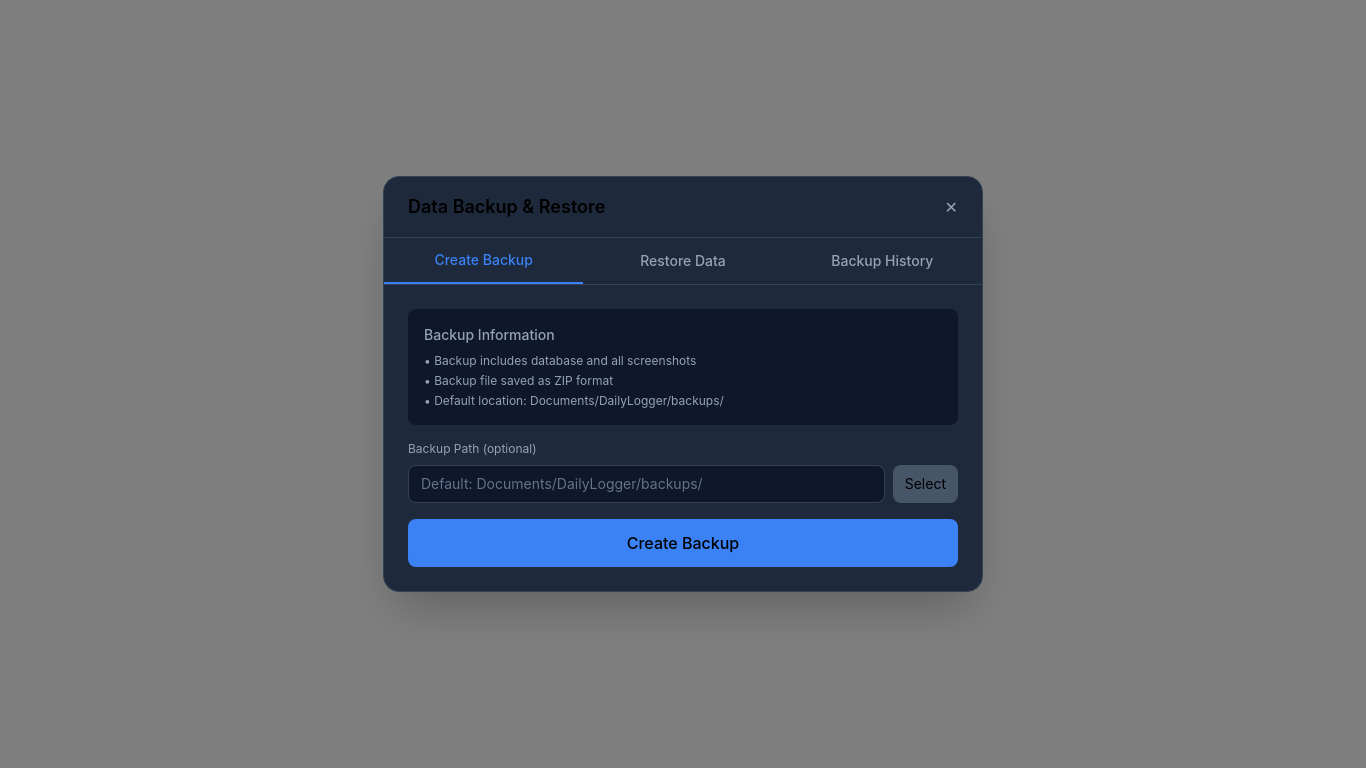
it: BackupModal › History Tab › displays backup list
Click the button "Backup History": (882, 261) [783, 238, 982, 284]
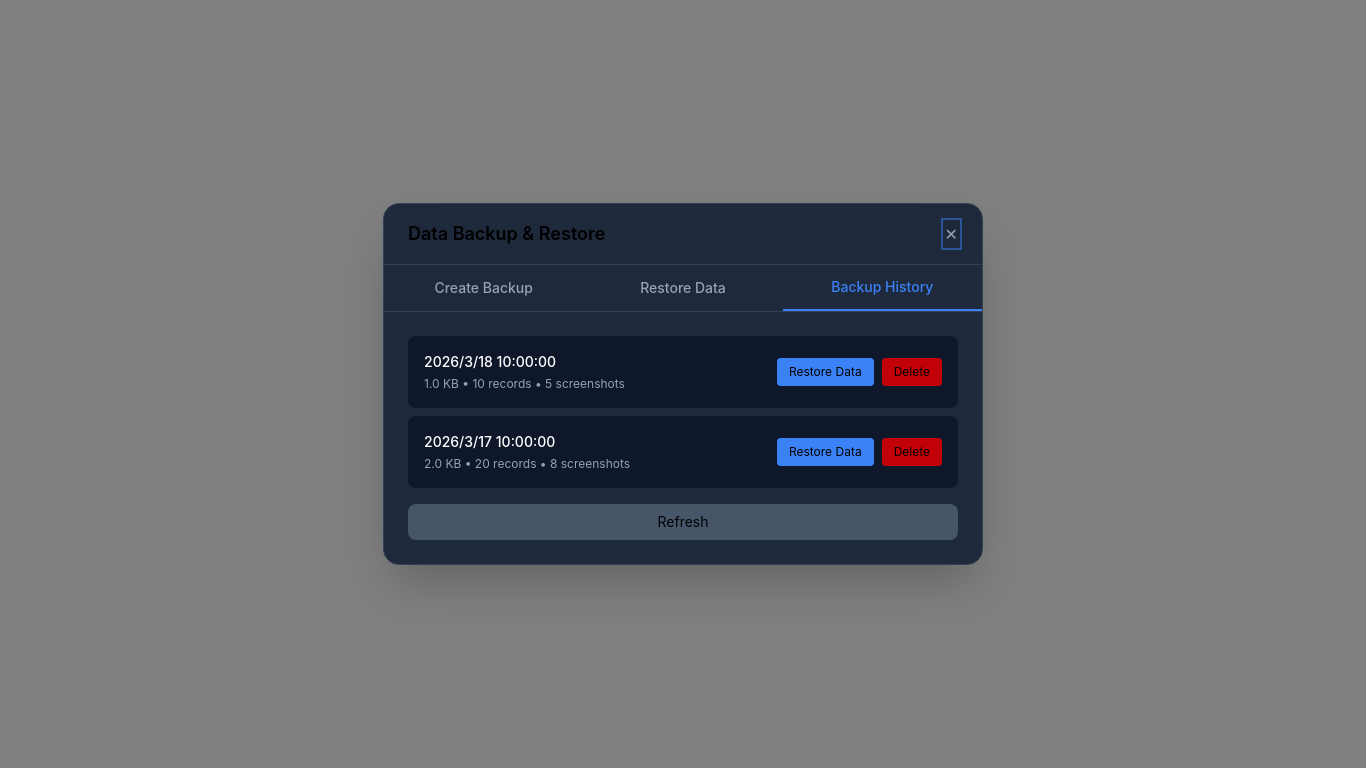
Check: the text "10" is shown, box [424, 353, 556, 370]
Check: the text "20" is shown, box [424, 353, 556, 370]
